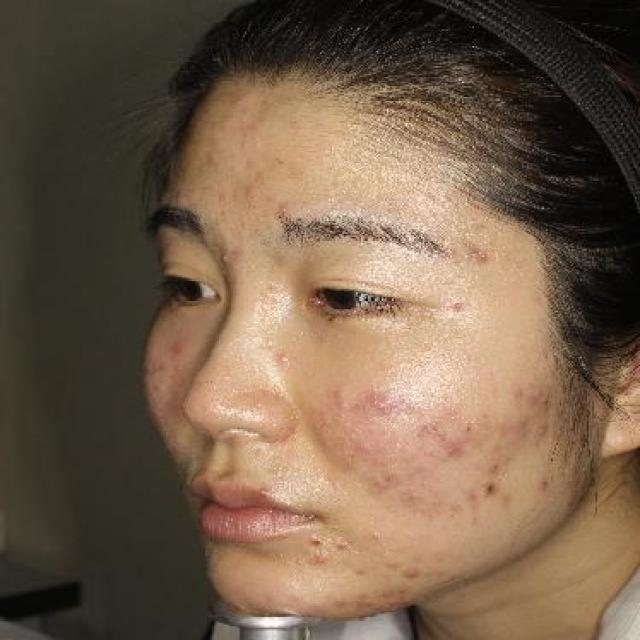blackheads: (334, 534, 351, 549)
papules: (303, 546, 334, 572), (330, 383, 356, 409), (368, 394, 399, 414), (270, 350, 294, 364)
pustules: (446, 292, 471, 314), (398, 566, 422, 583)
